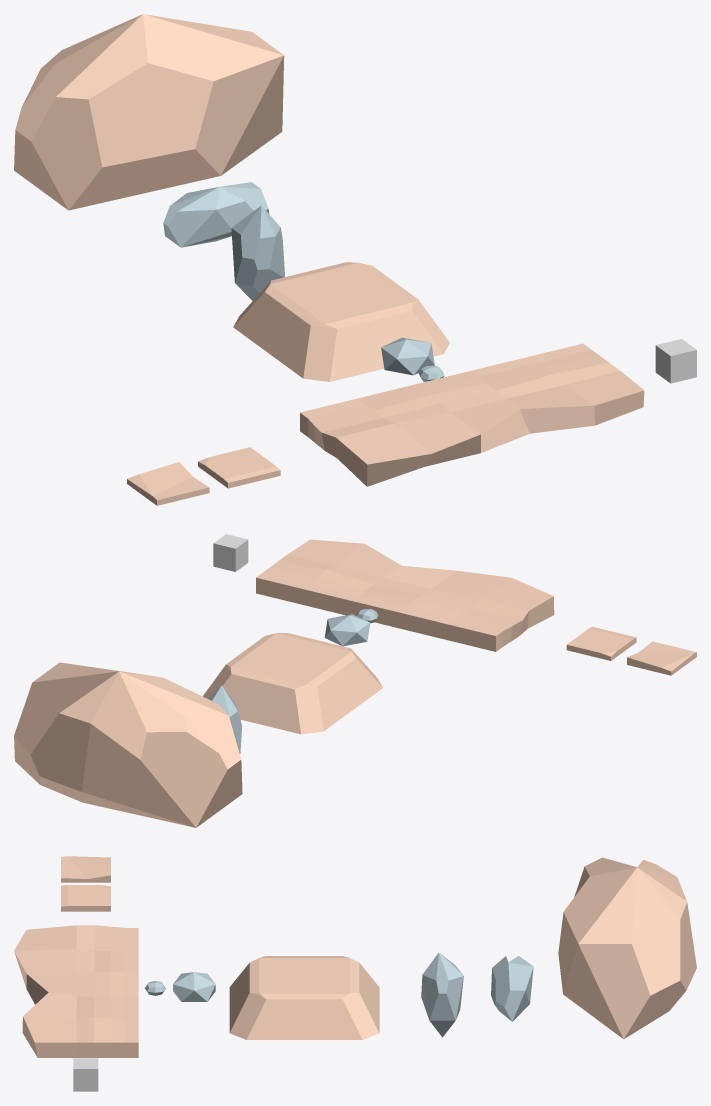
File: rocks.fbx
The picture shows the model from 3 angles, top to bottom: view 1: azimuth 30°, elevation 25°; view 2: azimuth 150°, elevation 25°; view 3: azimuth 270°, elevation 25°; orthographic projection. The views are drawn at different scales.
Parts seen in each view (by area): view 1: Icosphere.003, Cube.005, Cube.001, Icosphere.002, Icosphere.001, Cube.004, Cube.003, Icosphere, Cube; view 2: Icosphere.003, Cube.005, Cube.001, Cube.003, Cube.004, Icosphere, Cube, Icosphere.001; view 3: Icosphere.003, Cube.005, Cube.001, Icosphere.001, Icosphere.002, Cube.003, Cube.004, Icosphere, Cube.
Boxes of the visible parts, bbox=[...] form: Icosphere.003: bbox=[14, 14, 284, 210]; Cube.005: bbox=[300, 343, 644, 486]; Cube.001: bbox=[233, 262, 449, 381]; Icosphere.002: bbox=[163, 182, 269, 247]; Icosphere.001: bbox=[231, 205, 284, 300]; Cube.004: bbox=[127, 462, 209, 505]; Cube.003: bbox=[198, 447, 280, 488]; Icosphere: bbox=[381, 337, 434, 375]; Cube: bbox=[655, 339, 696, 383]; Icosphere.003: bbox=[14, 662, 242, 827]; Cube.005: bbox=[256, 539, 554, 651]; Cube.001: bbox=[203, 633, 382, 734]; Cube.003: bbox=[566, 626, 636, 660]; Cube.004: bbox=[627, 641, 696, 675]; Icosphere: bbox=[324, 614, 370, 646]; Cube: bbox=[213, 534, 248, 571]; Icosphere.001: bbox=[209, 685, 242, 753]; Icosphere.003: bbox=[558, 857, 696, 1039]; Cube.005: bbox=[14, 925, 138, 1057]; Cube.001: bbox=[229, 956, 379, 1039]; Icosphere.001: bbox=[421, 952, 463, 1037]; Icosphere.002: bbox=[491, 956, 533, 1021]; Cube.003: bbox=[61, 885, 110, 911]; Cube.004: bbox=[61, 856, 110, 882]; Icosphere: bbox=[173, 972, 215, 1001]; Cube: bbox=[73, 1058, 98, 1091].
Bounding box in the file's own units: 2089 × 753 × 2722.
